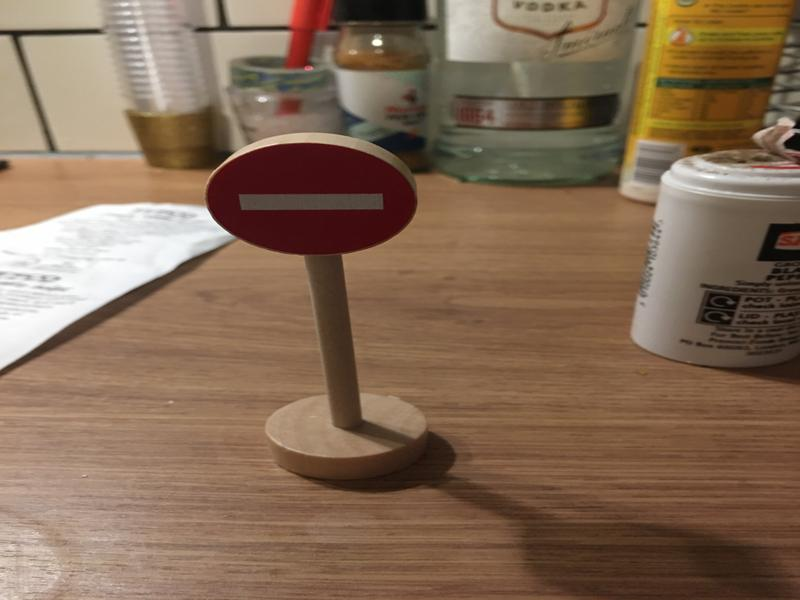Traffic_Sign_No_Entry: (206, 143, 416, 255)
